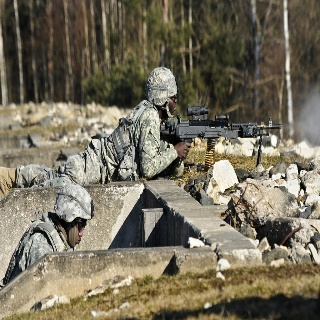rifle: (158, 105, 282, 166)
